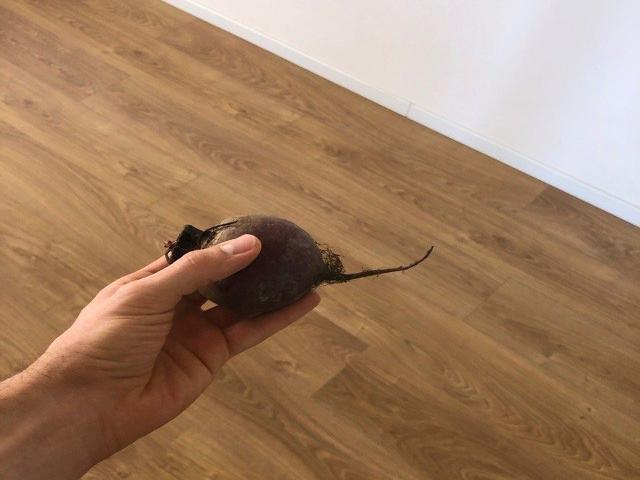beet: (165, 216, 434, 312)
